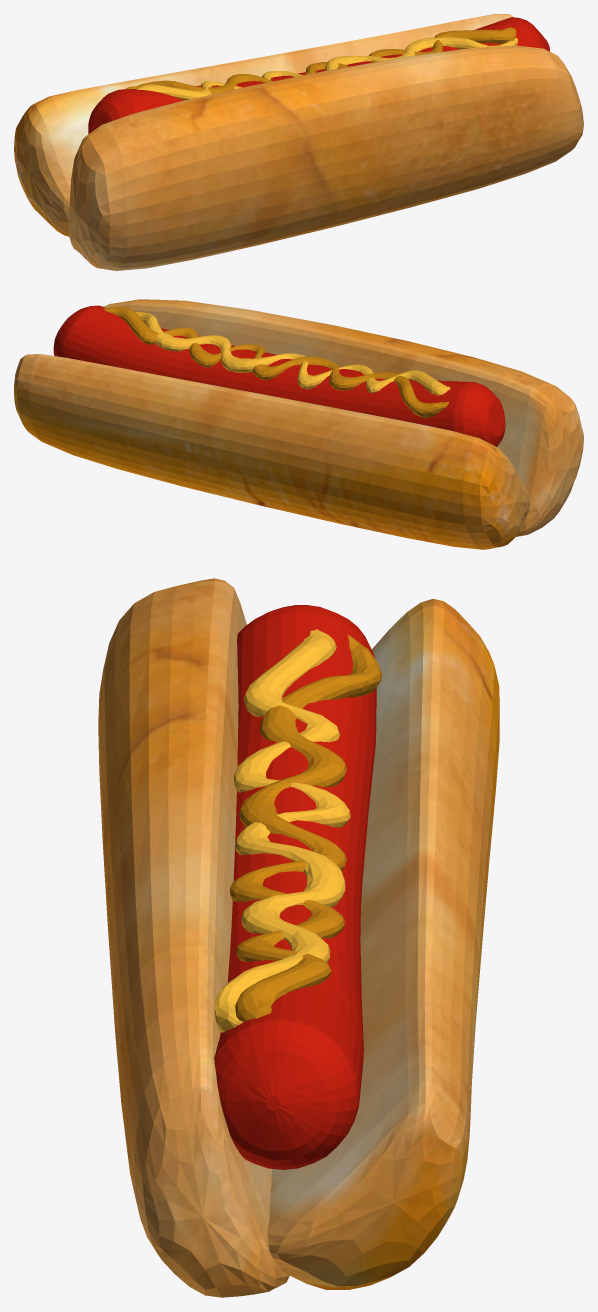
The model's file is hotDog.obj.
3 renders of one model, top to bottom at view 1: azimuth 30°, elevation 25°; view 2: azimuth 150°, elevation 25°; view 3: azimuth 270°, elevation 25°, orthographic. The views are drawn at different scales.
Visible parts, largest first — view 1: Pan2_Cube.001, Pan1_Cube, Salchicha_Cylinder.002, Mostaza_NurbsPath.000, Mayonesa_NurbsPath.001; view 2: Pan1_Cube, Pan2_Cube.001, Salchicha_Cylinder.002, Mostaza_NurbsPath.000, Mayonesa_NurbsPath.001; view 3: Pan2_Cube.001, Pan1_Cube, Salchicha_Cylinder.002, Mayonesa_NurbsPath.001, Mostaza_NurbsPath.000.
Part boxes in pixels (left/top/right/bottom): Pan2_Cube.001: left=68, top=45, right=583, bottom=270; Pan1_Cube: left=14, top=14, right=513, bottom=236; Salchicha_Cylinder.002: left=88, top=17, right=549, bottom=134; Mostaza_NurbsPath.000: left=125, top=27, right=516, bottom=94; Mayonesa_NurbsPath.001: left=136, top=37, right=517, bottom=100; Pan1_Cube: left=14, top=354, right=529, bottom=549; Pan2_Cube.001: left=104, top=299, right=583, bottom=536; Salchicha_Cylinder.002: left=53, top=305, right=505, bottom=446; Mostaza_NurbsPath.000: left=104, top=307, right=448, bottom=418; Mayonesa_NurbsPath.001: left=135, top=312, right=450, bottom=395; Pan2_Cube.001: left=98, top=578, right=289, bottom=1297; Pan1_Cube: left=267, top=599, right=499, bottom=1289; Salchicha_Cylinder.002: left=214, top=605, right=376, bottom=1169; Mayonesa_NurbsPath.001: left=215, top=629, right=350, bottom=1032; Mostaza_NurbsPath.000: left=230, top=635, right=381, bottom=1021.
Bounding box in the file's own units: 21.05 × 6.46 × 7.33.
